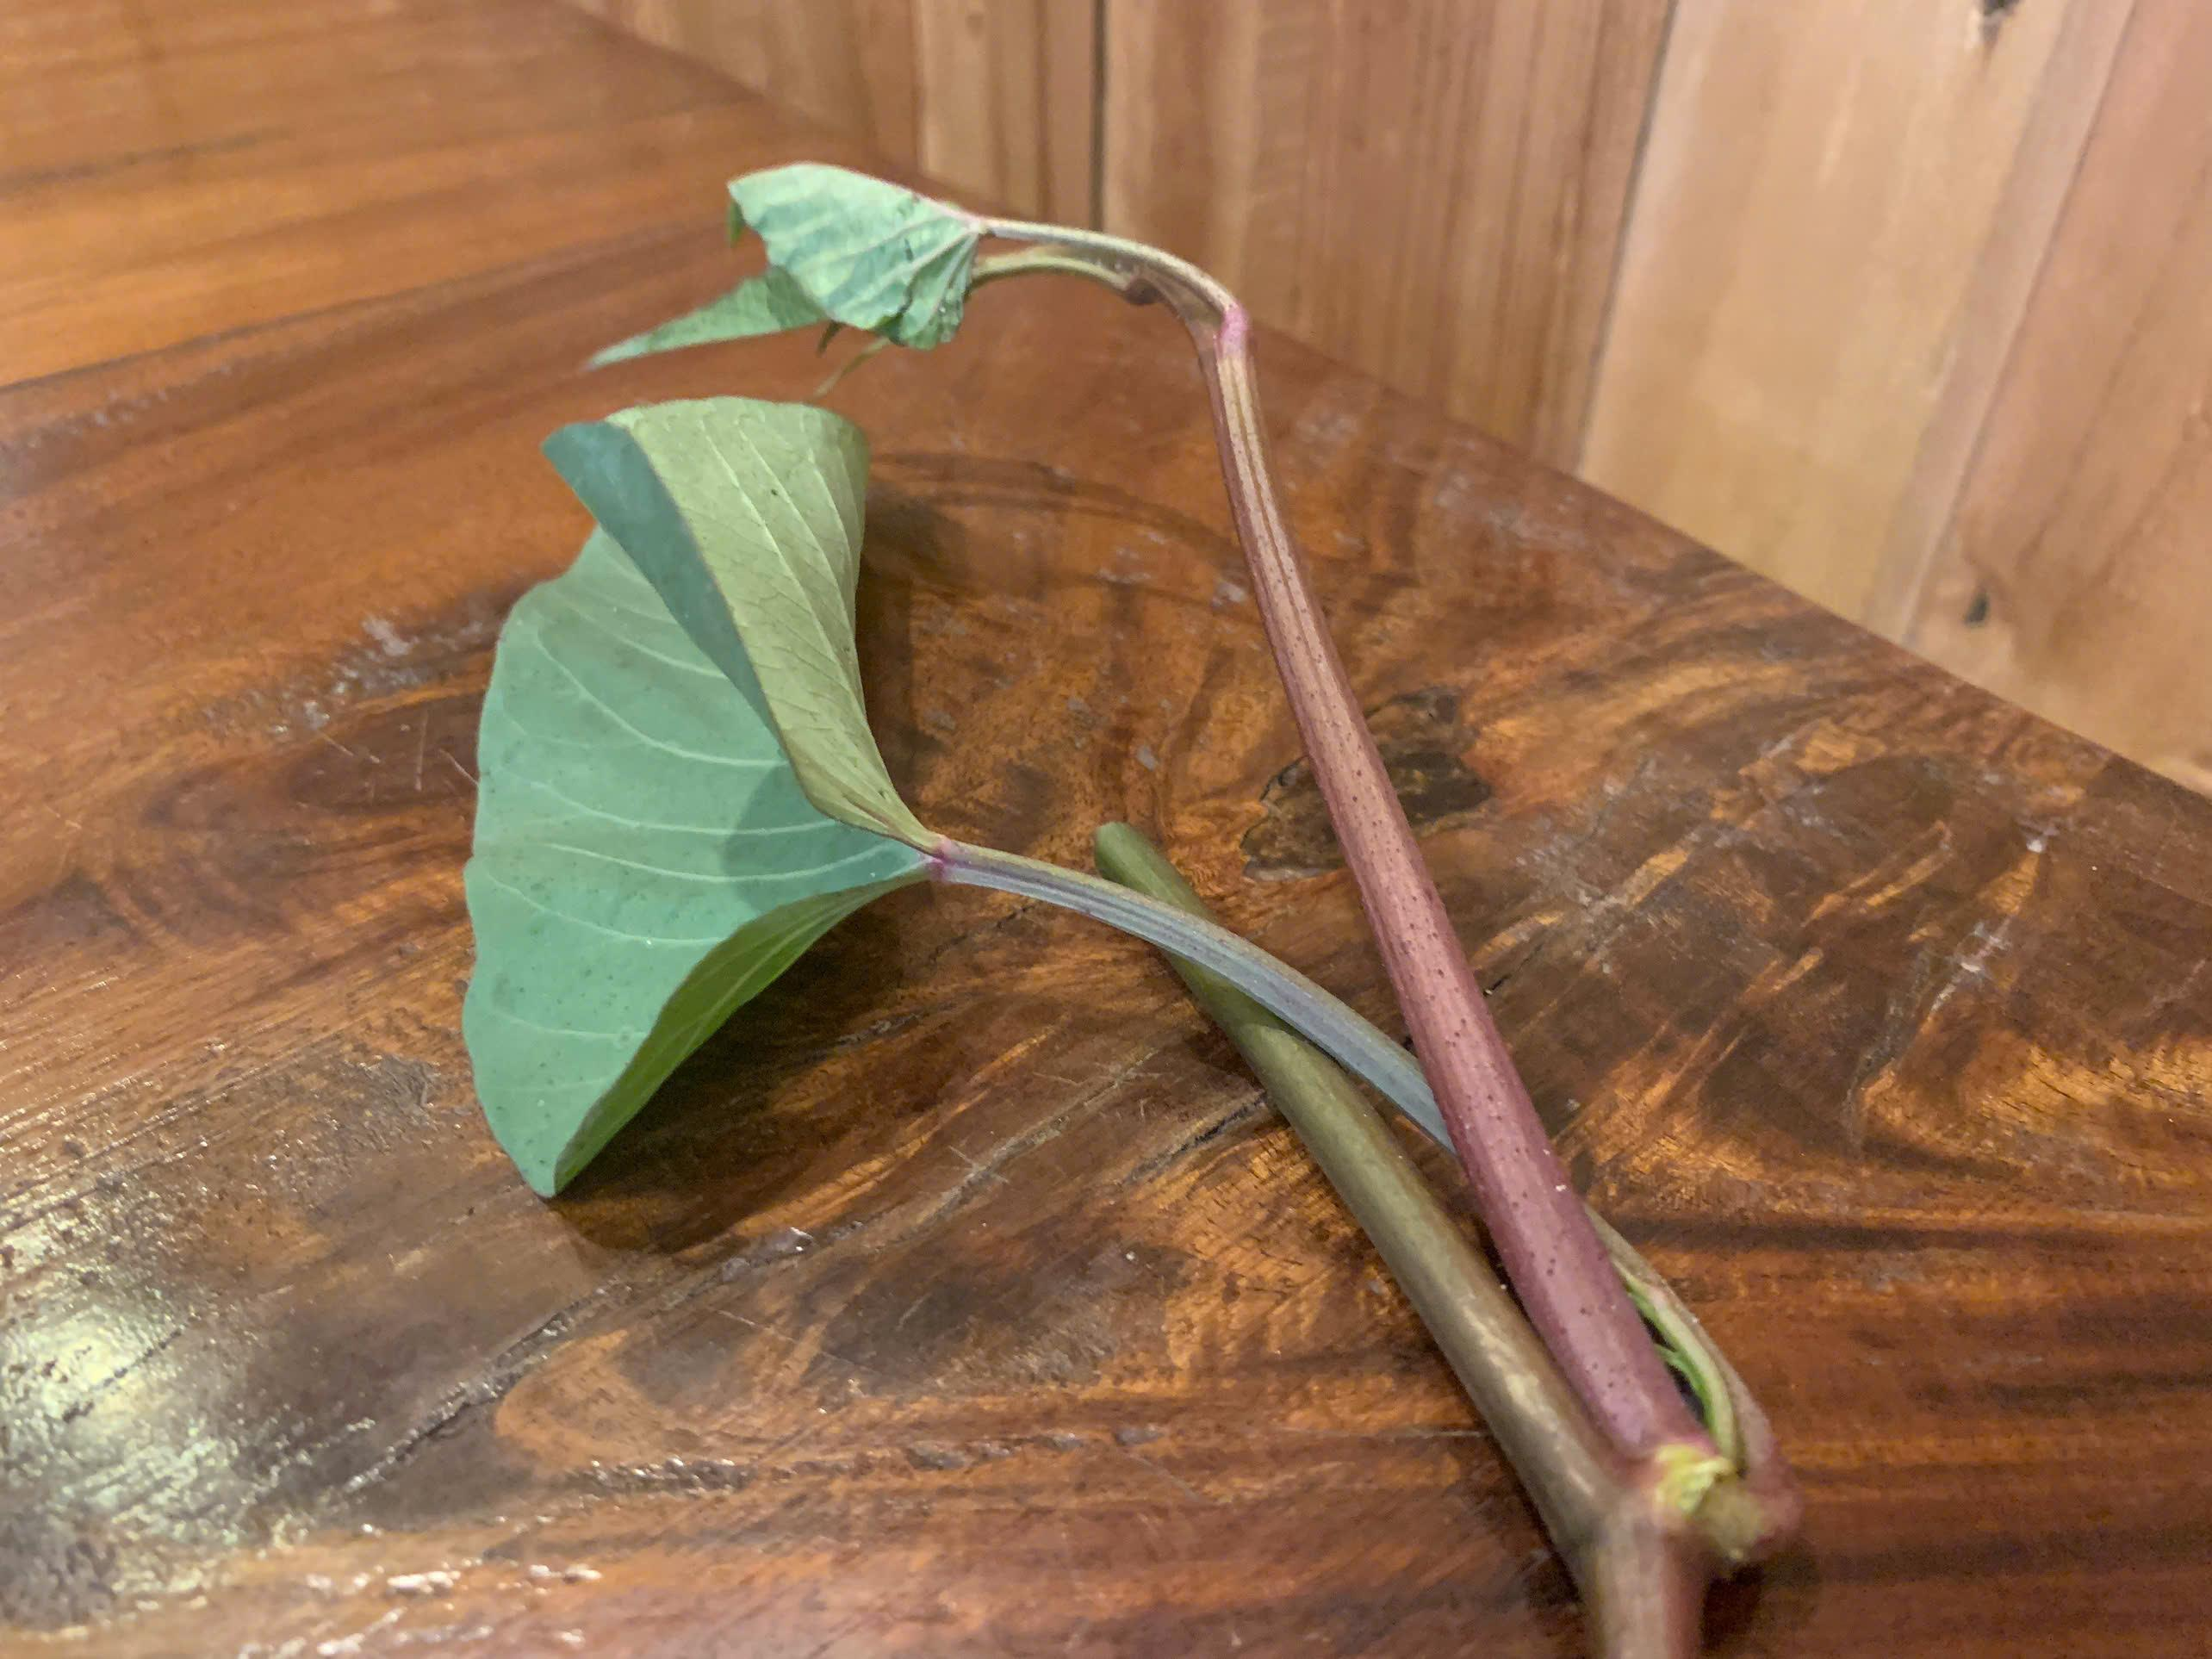Huu co: (462, 162, 1797, 1586)
